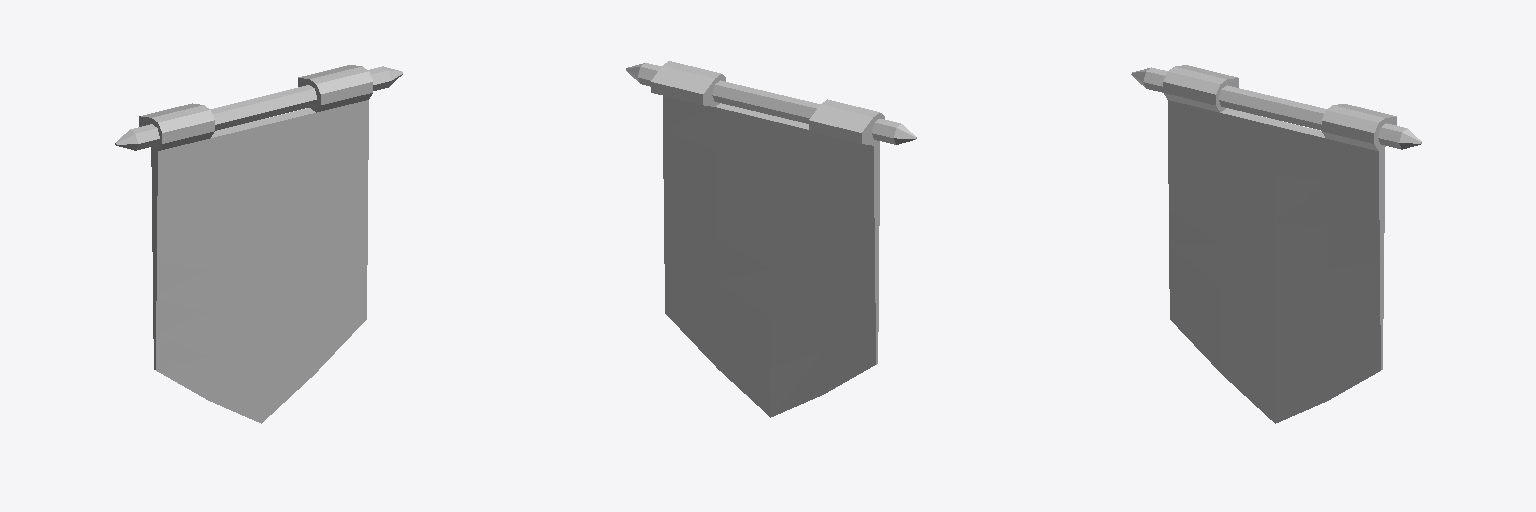
Rendered from banner.obj.
The picture shows the model from 3 angles: view 1: azimuth 30°, elevation 25°; view 2: azimuth 150°, elevation 25°; view 3: azimuth 330°, elevation 25°; orthographic projection.
Parts seen in each view (by area): view 1: ForestBanner_Cube.001; view 2: ForestBanner_Cube.001; view 3: ForestBanner_Cube.001.
Boxes of the visible parts, x1,y1,x2,y2 form: ForestBanner_Cube.001: [115, 65, 402, 423]; ForestBanner_Cube.001: [626, 61, 916, 417]; ForestBanner_Cube.001: [1131, 65, 1421, 423].
Size of the model in its own units: 1.75 by 1.9 by 0.2417.